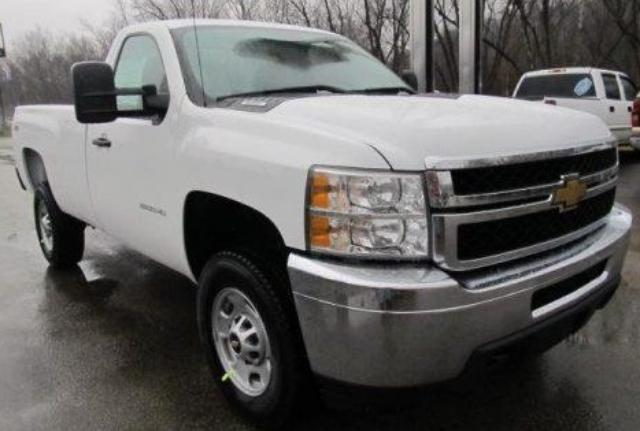pickup-truck: (9, 17, 632, 421)
